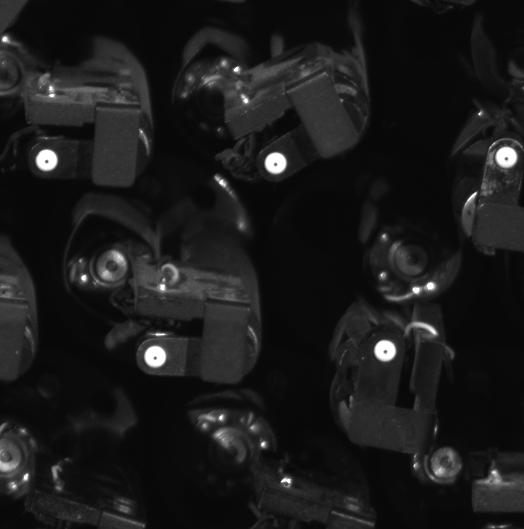fiber: (262, 148, 293, 179), (371, 335, 401, 367), (141, 342, 171, 373), (32, 144, 60, 176), (493, 144, 520, 171)
